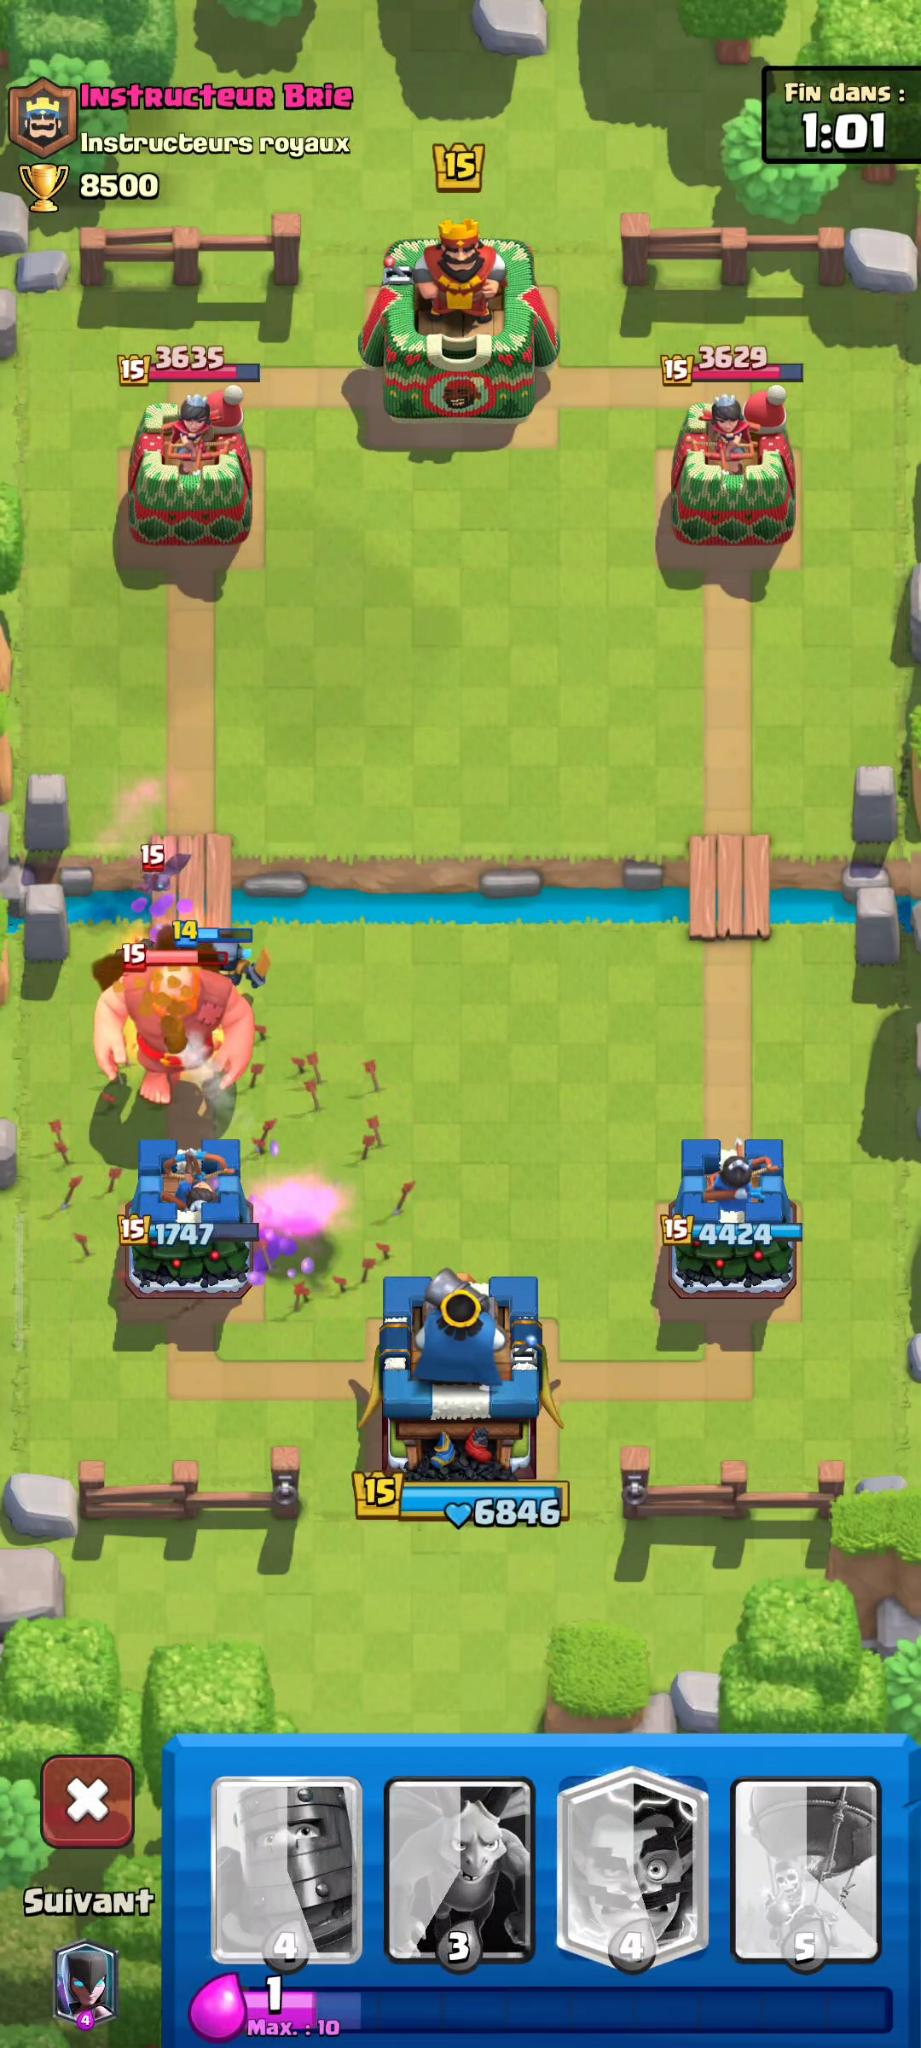bat: (141, 841, 189, 897)
geant: (91, 944, 256, 1130)
mini_PEKKA: (116, 920, 268, 987)
